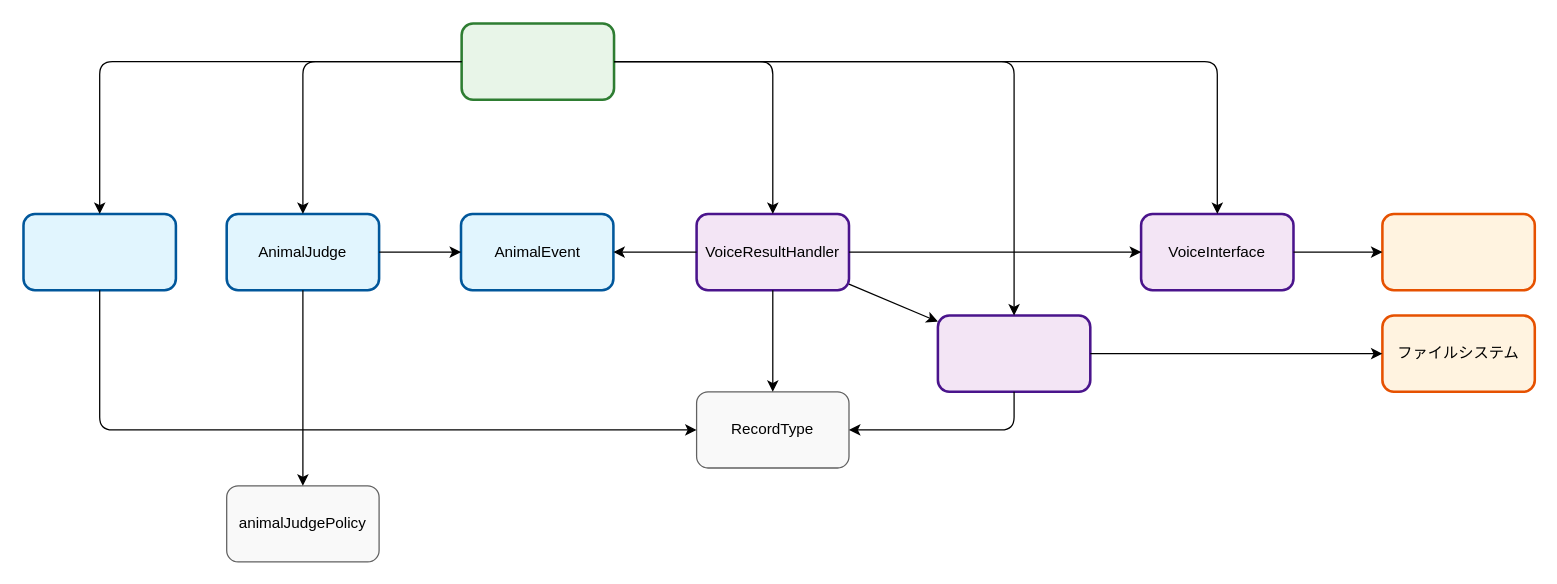
This 1557x584 diagram has some shape labels left out. Each missing label, with the centre of its shape:
main.ts: [537,61]
RecordHolder: [99,251]
RecordStorage: [1013,353]
標準入出力: [1457,251]
